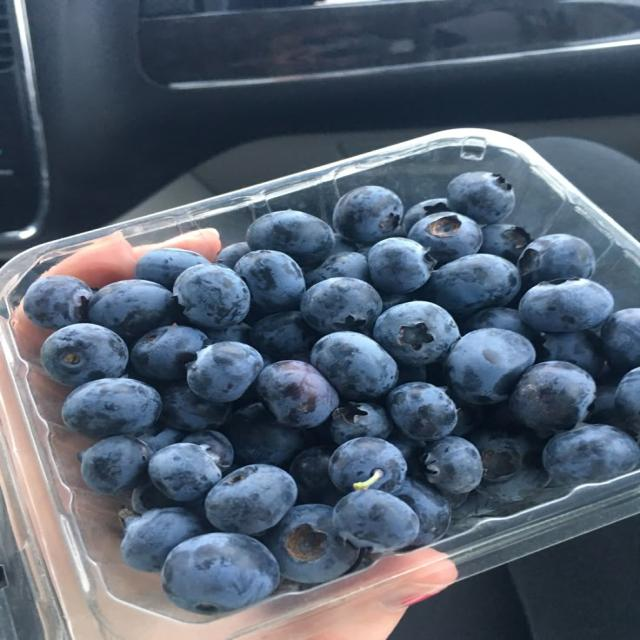blueberry: (162, 534, 279, 614), (263, 504, 359, 583), (446, 329, 535, 404), (510, 361, 595, 437), (206, 464, 297, 534), (420, 254, 520, 317), (312, 332, 398, 400), (62, 379, 161, 438), (543, 425, 639, 484), (120, 507, 206, 572), (88, 280, 178, 342), (257, 361, 339, 428), (40, 324, 128, 386), (374, 301, 459, 365), (334, 490, 419, 552), (520, 278, 613, 332), (225, 403, 304, 466), (247, 211, 334, 268), (174, 265, 250, 328), (470, 454, 549, 514), (187, 342, 263, 403), (234, 250, 306, 313), (300, 278, 381, 334), (329, 437, 406, 493), (130, 326, 209, 380), (518, 234, 595, 289), (148, 443, 221, 501), (79, 436, 152, 493), (333, 186, 403, 244), (387, 383, 457, 441), (408, 212, 482, 264), (394, 479, 451, 545), (23, 276, 93, 329), (367, 238, 435, 292), (469, 425, 532, 482), (447, 172, 515, 224), (424, 436, 484, 493), (161, 384, 231, 431), (289, 445, 342, 506), (251, 312, 319, 359), (135, 248, 208, 290), (539, 331, 604, 377), (463, 307, 539, 343), (331, 402, 393, 444), (601, 308, 639, 373), (306, 252, 370, 287), (182, 430, 233, 470), (480, 224, 532, 263), (132, 482, 184, 514), (402, 198, 448, 234), (614, 368, 639, 433), (587, 383, 619, 426), (483, 400, 523, 432), (387, 429, 425, 461), (451, 401, 484, 436), (139, 428, 184, 452), (206, 323, 251, 344), (216, 243, 251, 268), (438, 490, 471, 510), (380, 292, 414, 311), (397, 363, 427, 384), (332, 232, 357, 254), (358, 245, 373, 258)
